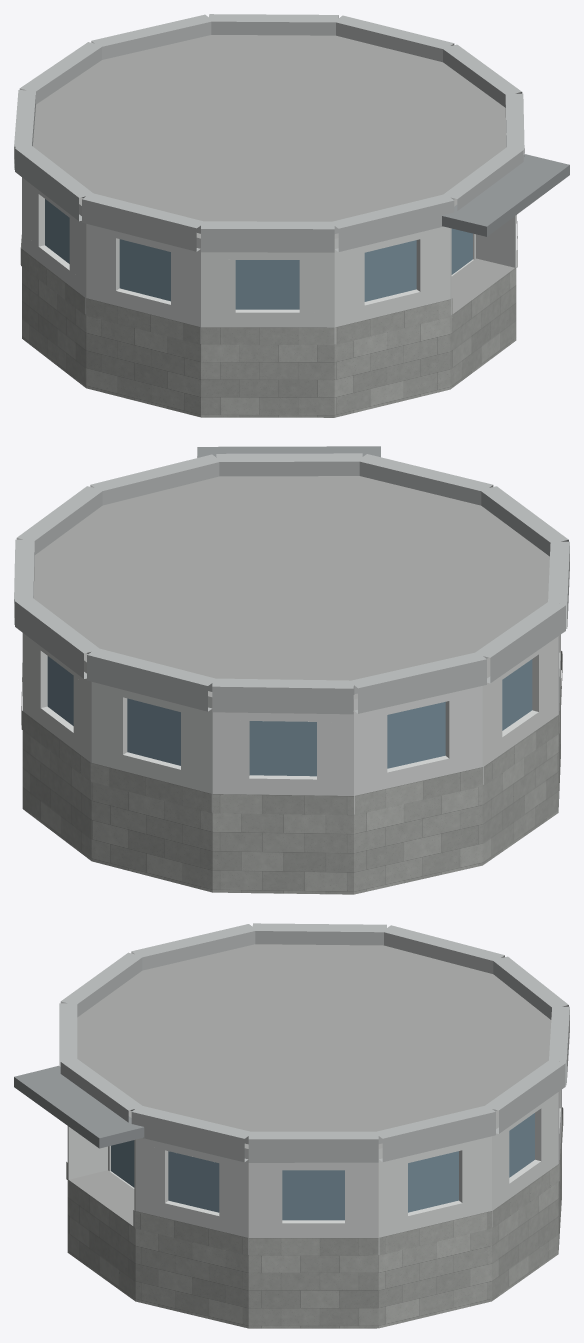
3 renders of one model, top to bottom at view 1: azimuth 30°, elevation 25°; view 2: azimuth 150°, elevation 25°; view 3: azimuth 270°, elevation 25°, orthographic. The views are drawn at different scales.
Visible parts, largest first — view 1: waterTankW9__roof, waterTankW9__base, waterTankW9__trim, waterTankW9__wall, waterTankW9__glass, waterTankW9__canopy; view 2: waterTankW9__roof, waterTankW9__base, waterTankW9__trim, waterTankW9__wall, waterTankW9__glass, waterTankW9__canopy; view 3: waterTankW9__roof, waterTankW9__base, waterTankW9__trim, waterTankW9__wall, waterTankW9__glass, waterTankW9__canopy.
Boxes of the visible parts, x1,y1,x2,y2 form: waterTankW9__roof: (33,35,514,313); waterTankW9__base: (20,215,517,417); waterTankW9__trim: (14,14,524,252); waterTankW9__wall: (22,177,516,343); waterTankW9__glass: (45,199,472,309); waterTankW9__canopy: (442,154,569,236); waterTankW9__roof: (33,476,549,699); waterTankW9__base: (21,651,562,894); waterTankW9__trim: (14,453,569,714); waterTankW9__wall: (22,633,560,814); waterTankW9__glass: (47,656,532,776); waterTankW9__canopy: (197,446,380,457); waterTankW9__roof: (69,944,551,1225); waterTankW9__base: (66,1107,563,1328); waterTankW9__trim: (59,923,569,1162); waterTankW9__wall: (67,1061,561,1254); waterTankW9__glass: (111,1113,534,1220); waterTankW9__canopy: (14,1065,144,1148).
Size of the model in its own units: 15.74 by 6.55 by 17.13.
Materials: 8 (1 with a texture image).
